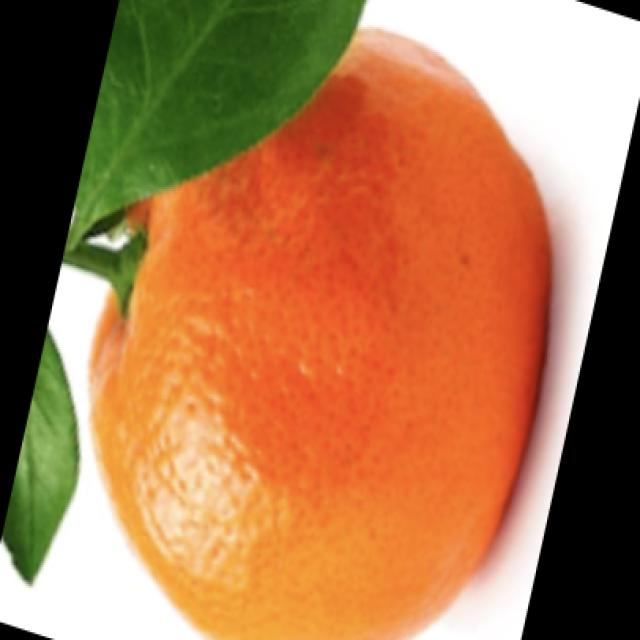orange: (82, 13, 566, 640)
